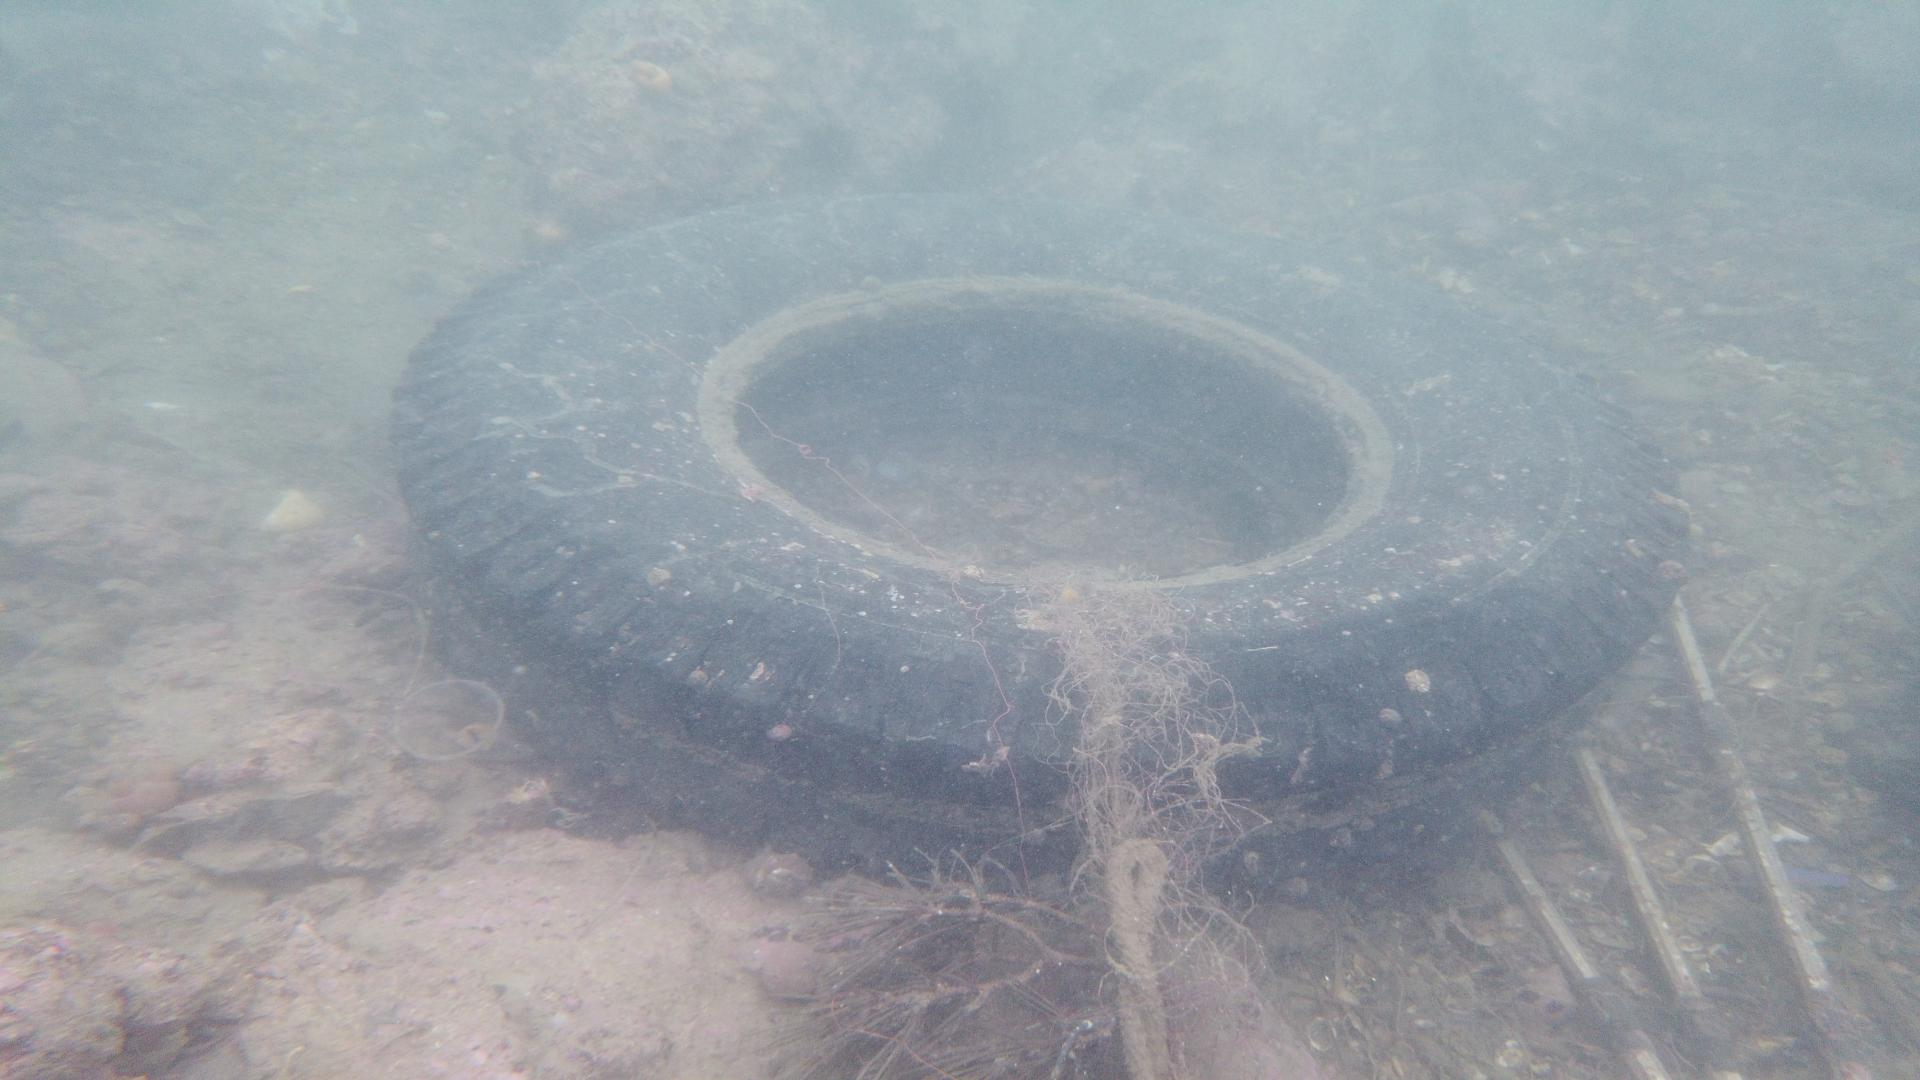rope: (1098, 833, 1168, 1080)
tire: (382, 190, 1691, 903)
